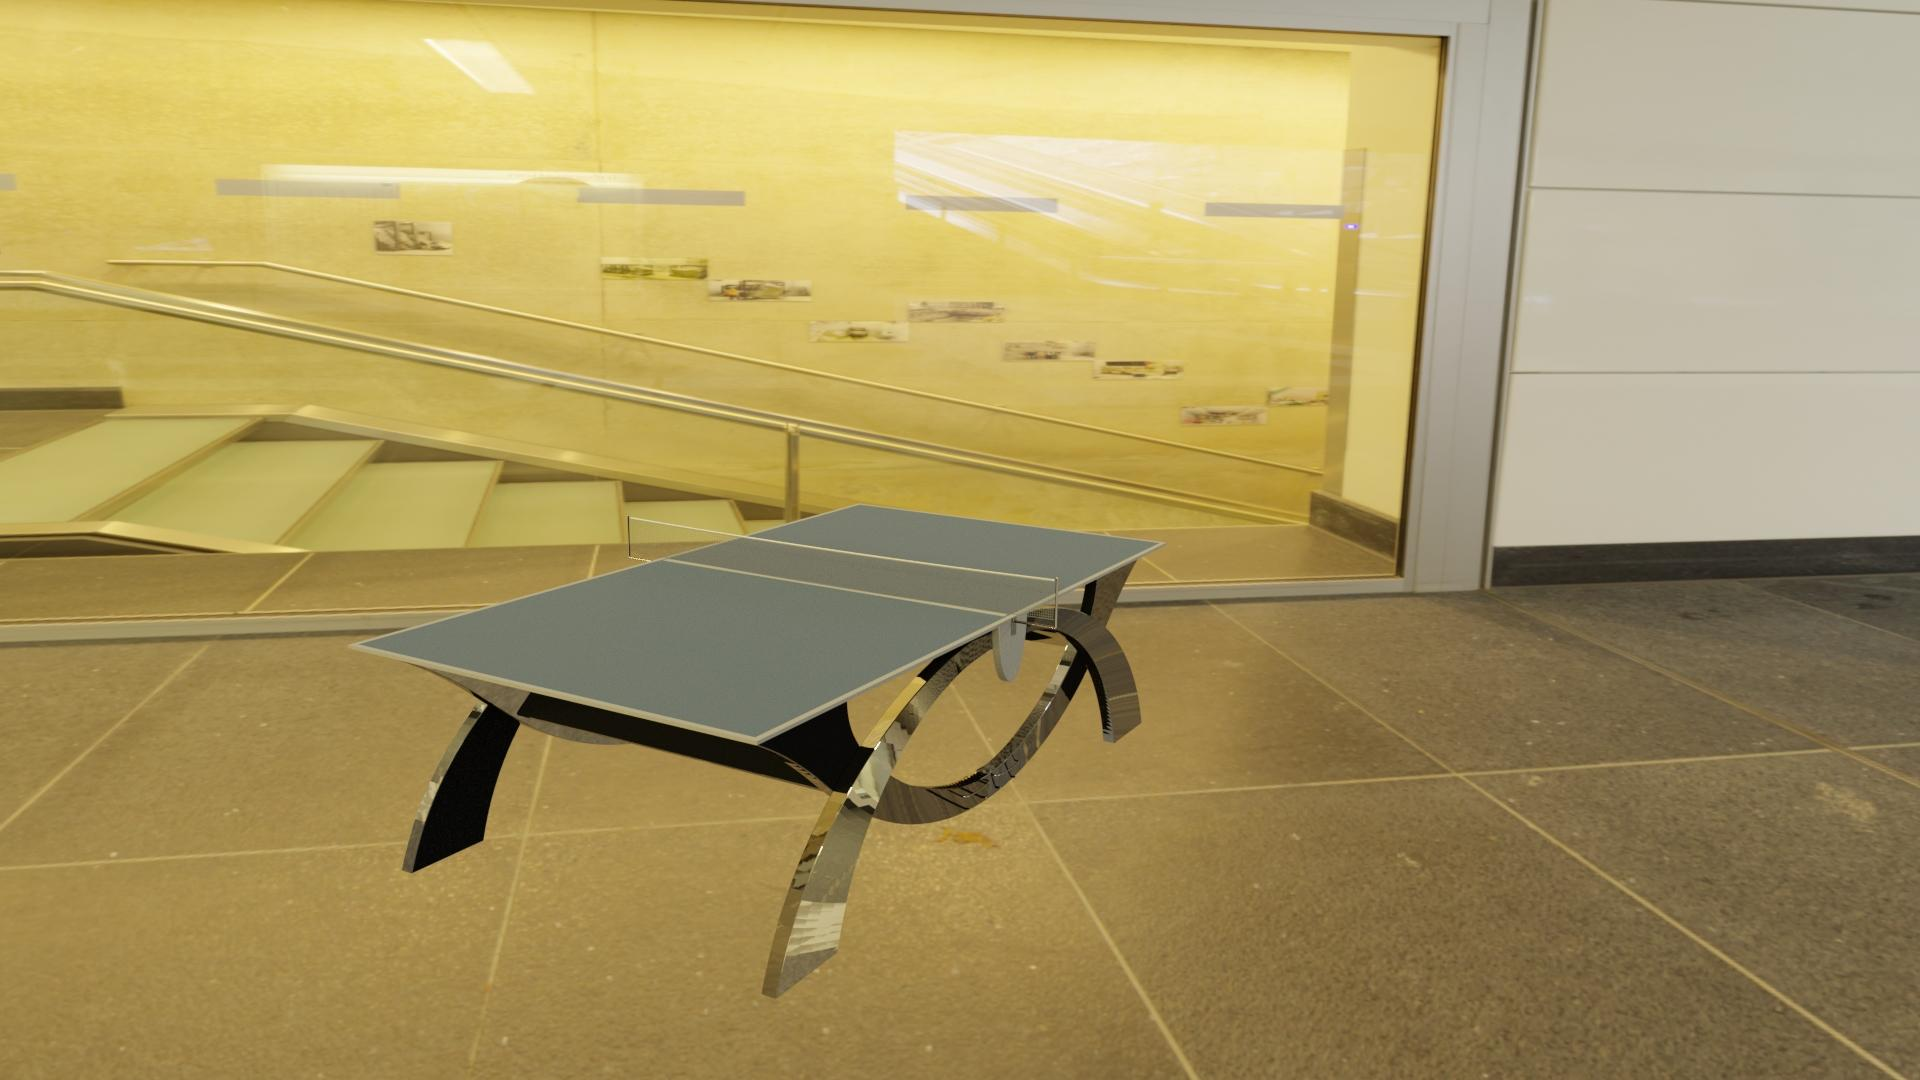table: (359, 505, 1160, 737)
